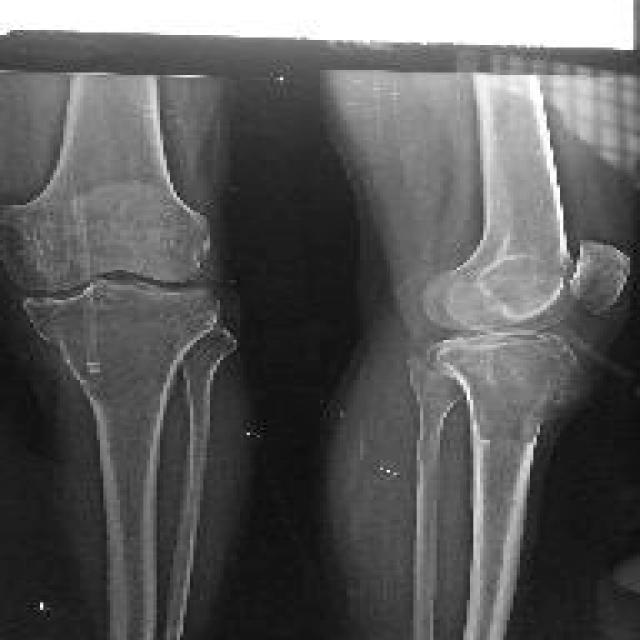bone-cancer: (458, 335, 584, 447), (51, 288, 178, 395)
